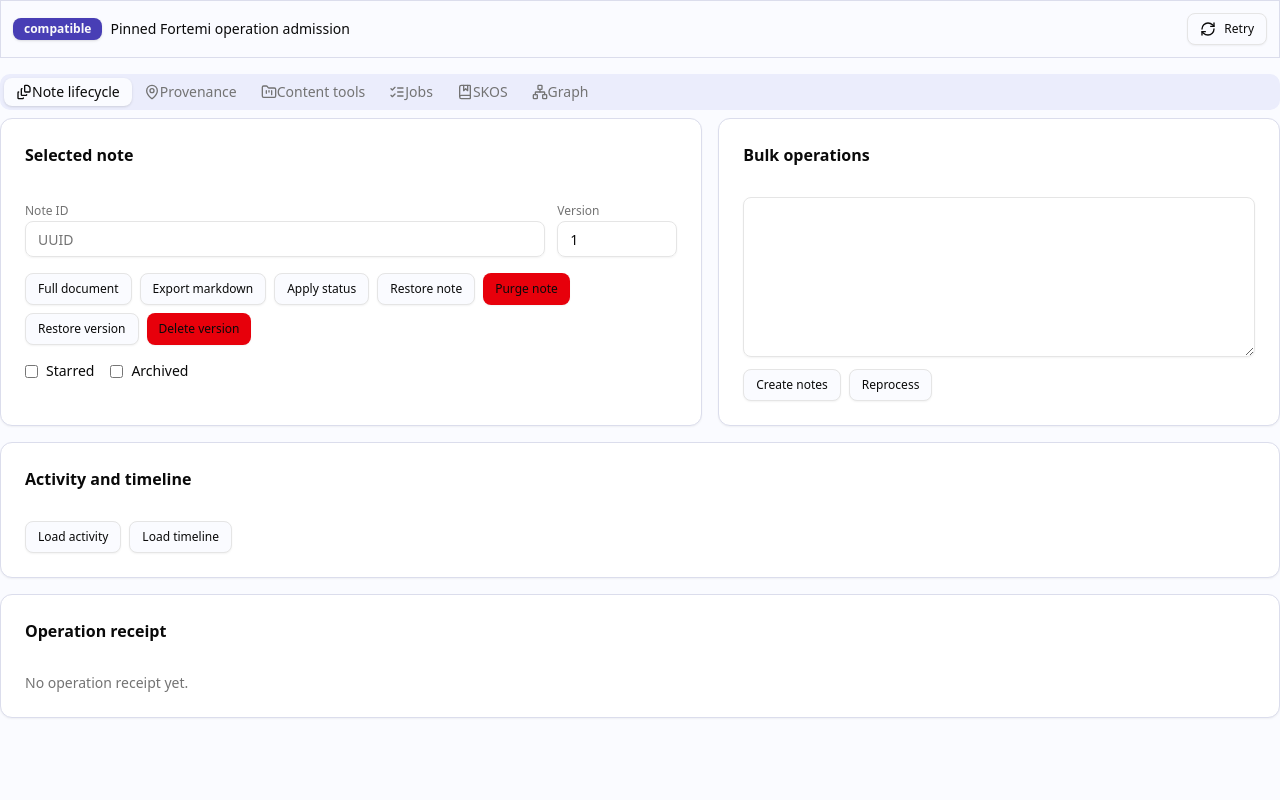
Test: CoreContentLifecyclePanel › confirms Restore note and records an auditable Restore receipt
Type "note-1" into the field labelled "Note ID".
click(285, 239); type("note-1")  # box [25, 221, 545, 257]
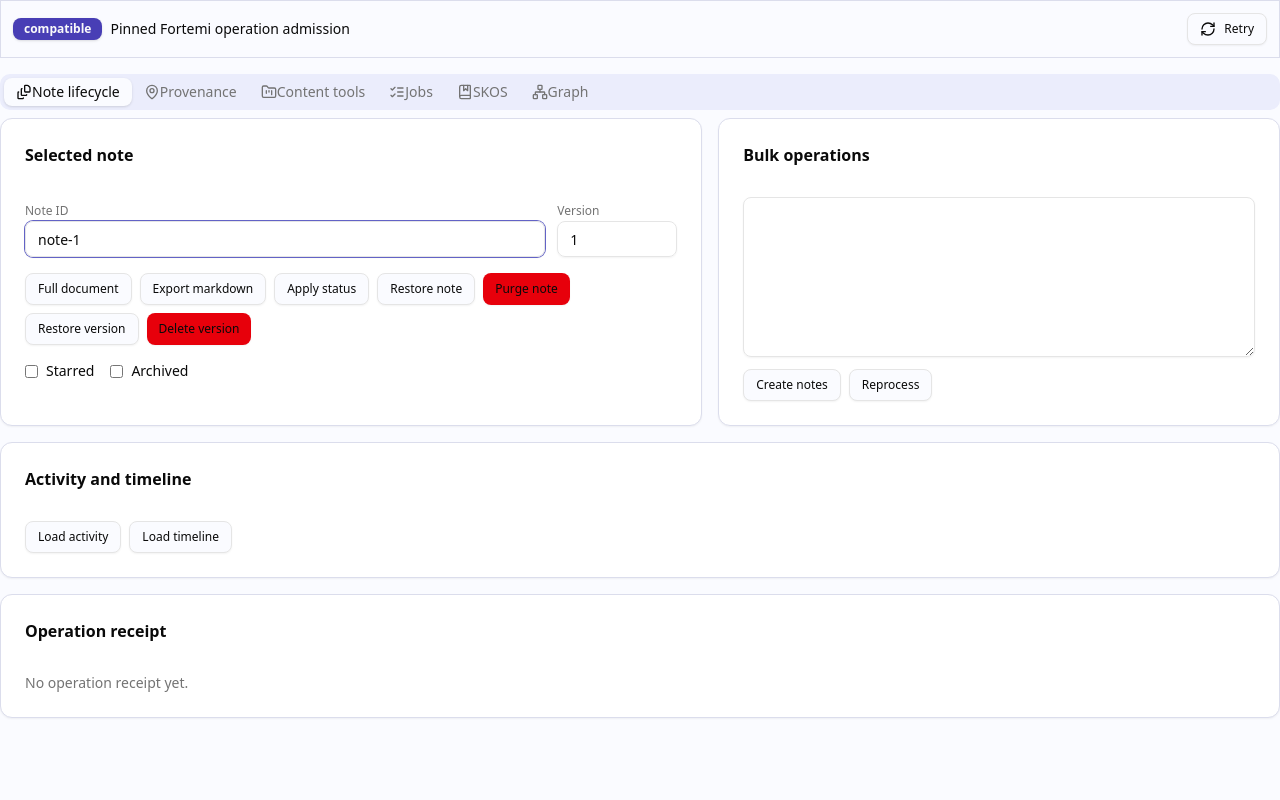
Click the button "Restore note".
click(426, 289)  # box [377, 273, 475, 305]
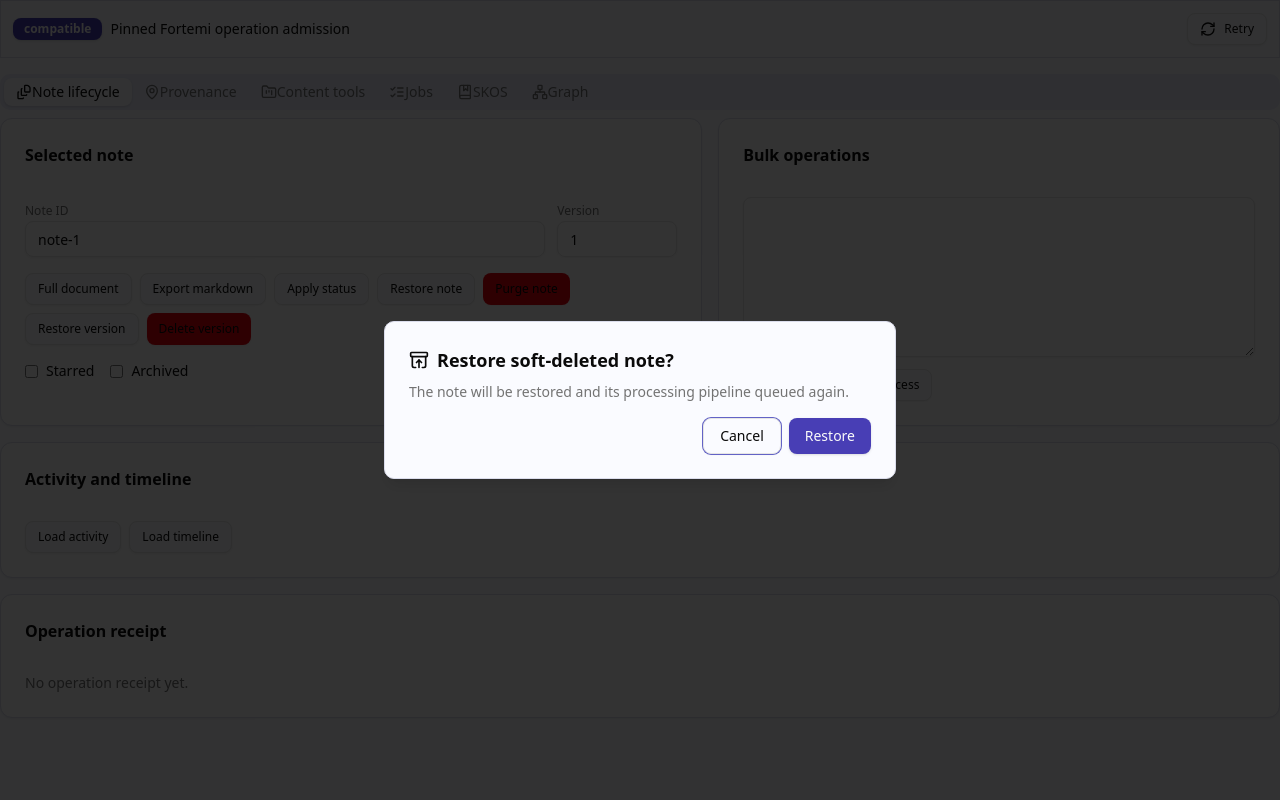
Expected: the text "Restored note note-1; restored=true." is not shown
Expected: the dialog is shown, [384, 321, 896, 479]
Click the button "Restore".
click(830, 436)  # box [789, 418, 871, 454]
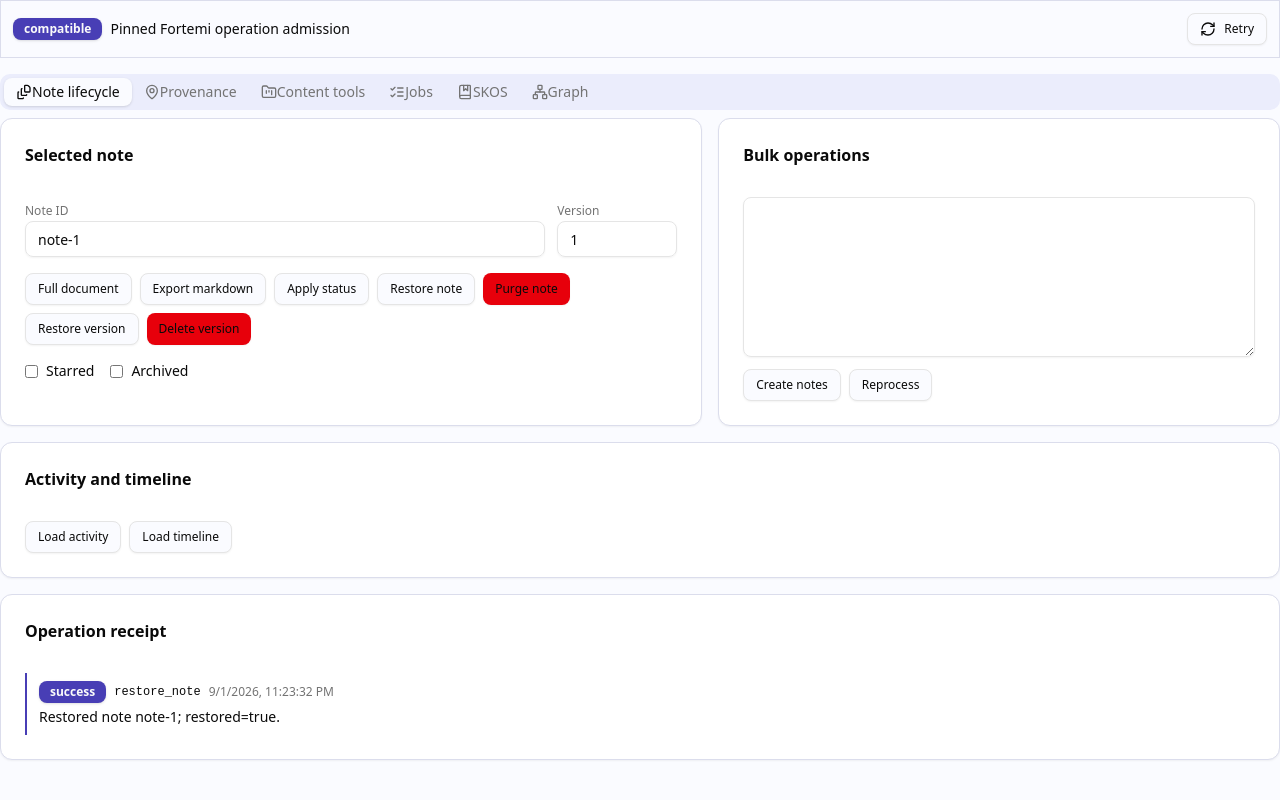
Expected: the text "restore_note" is shown, [114, 684, 201, 700]
Expected: the text "Restored note note-1; restored=true." is shown, [39, 707, 280, 726]
